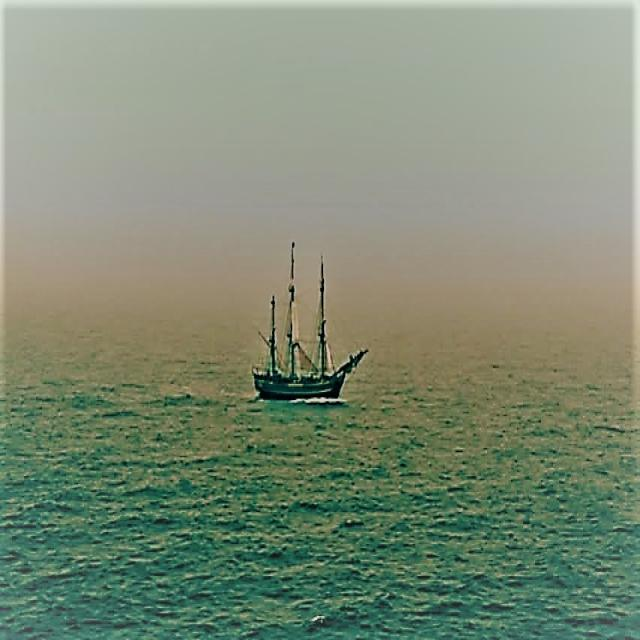fishing boat: (252, 238, 360, 402)
